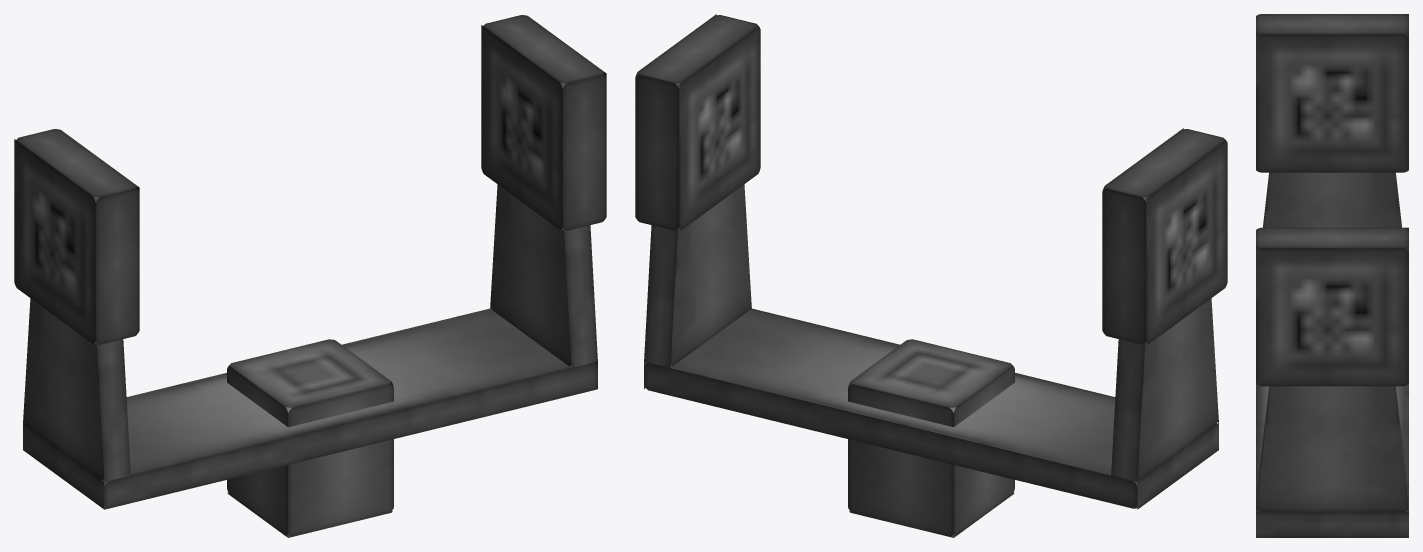
File: solar_reflector_support.obj
The picture shows the model from 3 angles, left to right: view 1: azimuth 30°, elevation 25°; view 2: azimuth 150°, elevation 25°; view 3: azimuth 270°, elevation 25°; orthographic projection. The views are drawn at different scales.
Parts seen in each view (by area): view 1: support; view 2: support; view 3: support.
Boxes of the visible parts, x1=… form: support: x1=14, y1=15, x2=606, y2=537; support: x1=635, y1=14, x2=1227, y2=537; support: x1=1256, y1=14, x2=1408, y2=537.
Bounding box in the file's own units: 3.62 × 2.69 × 1.
